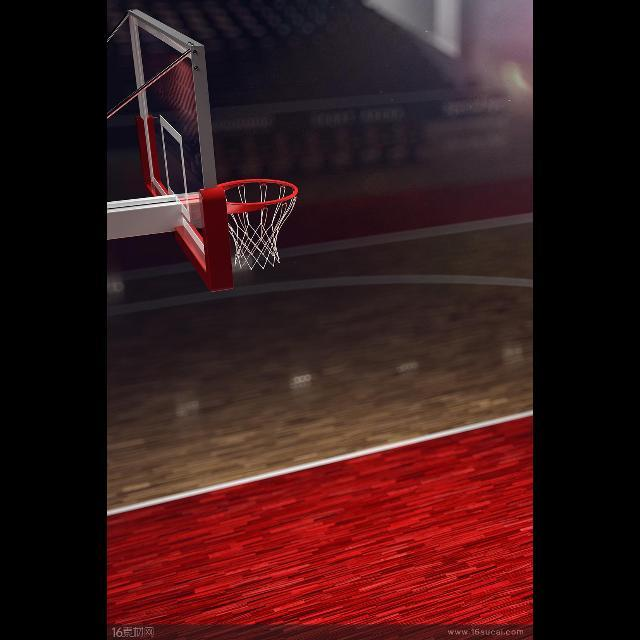rim: (222, 180, 298, 268)
